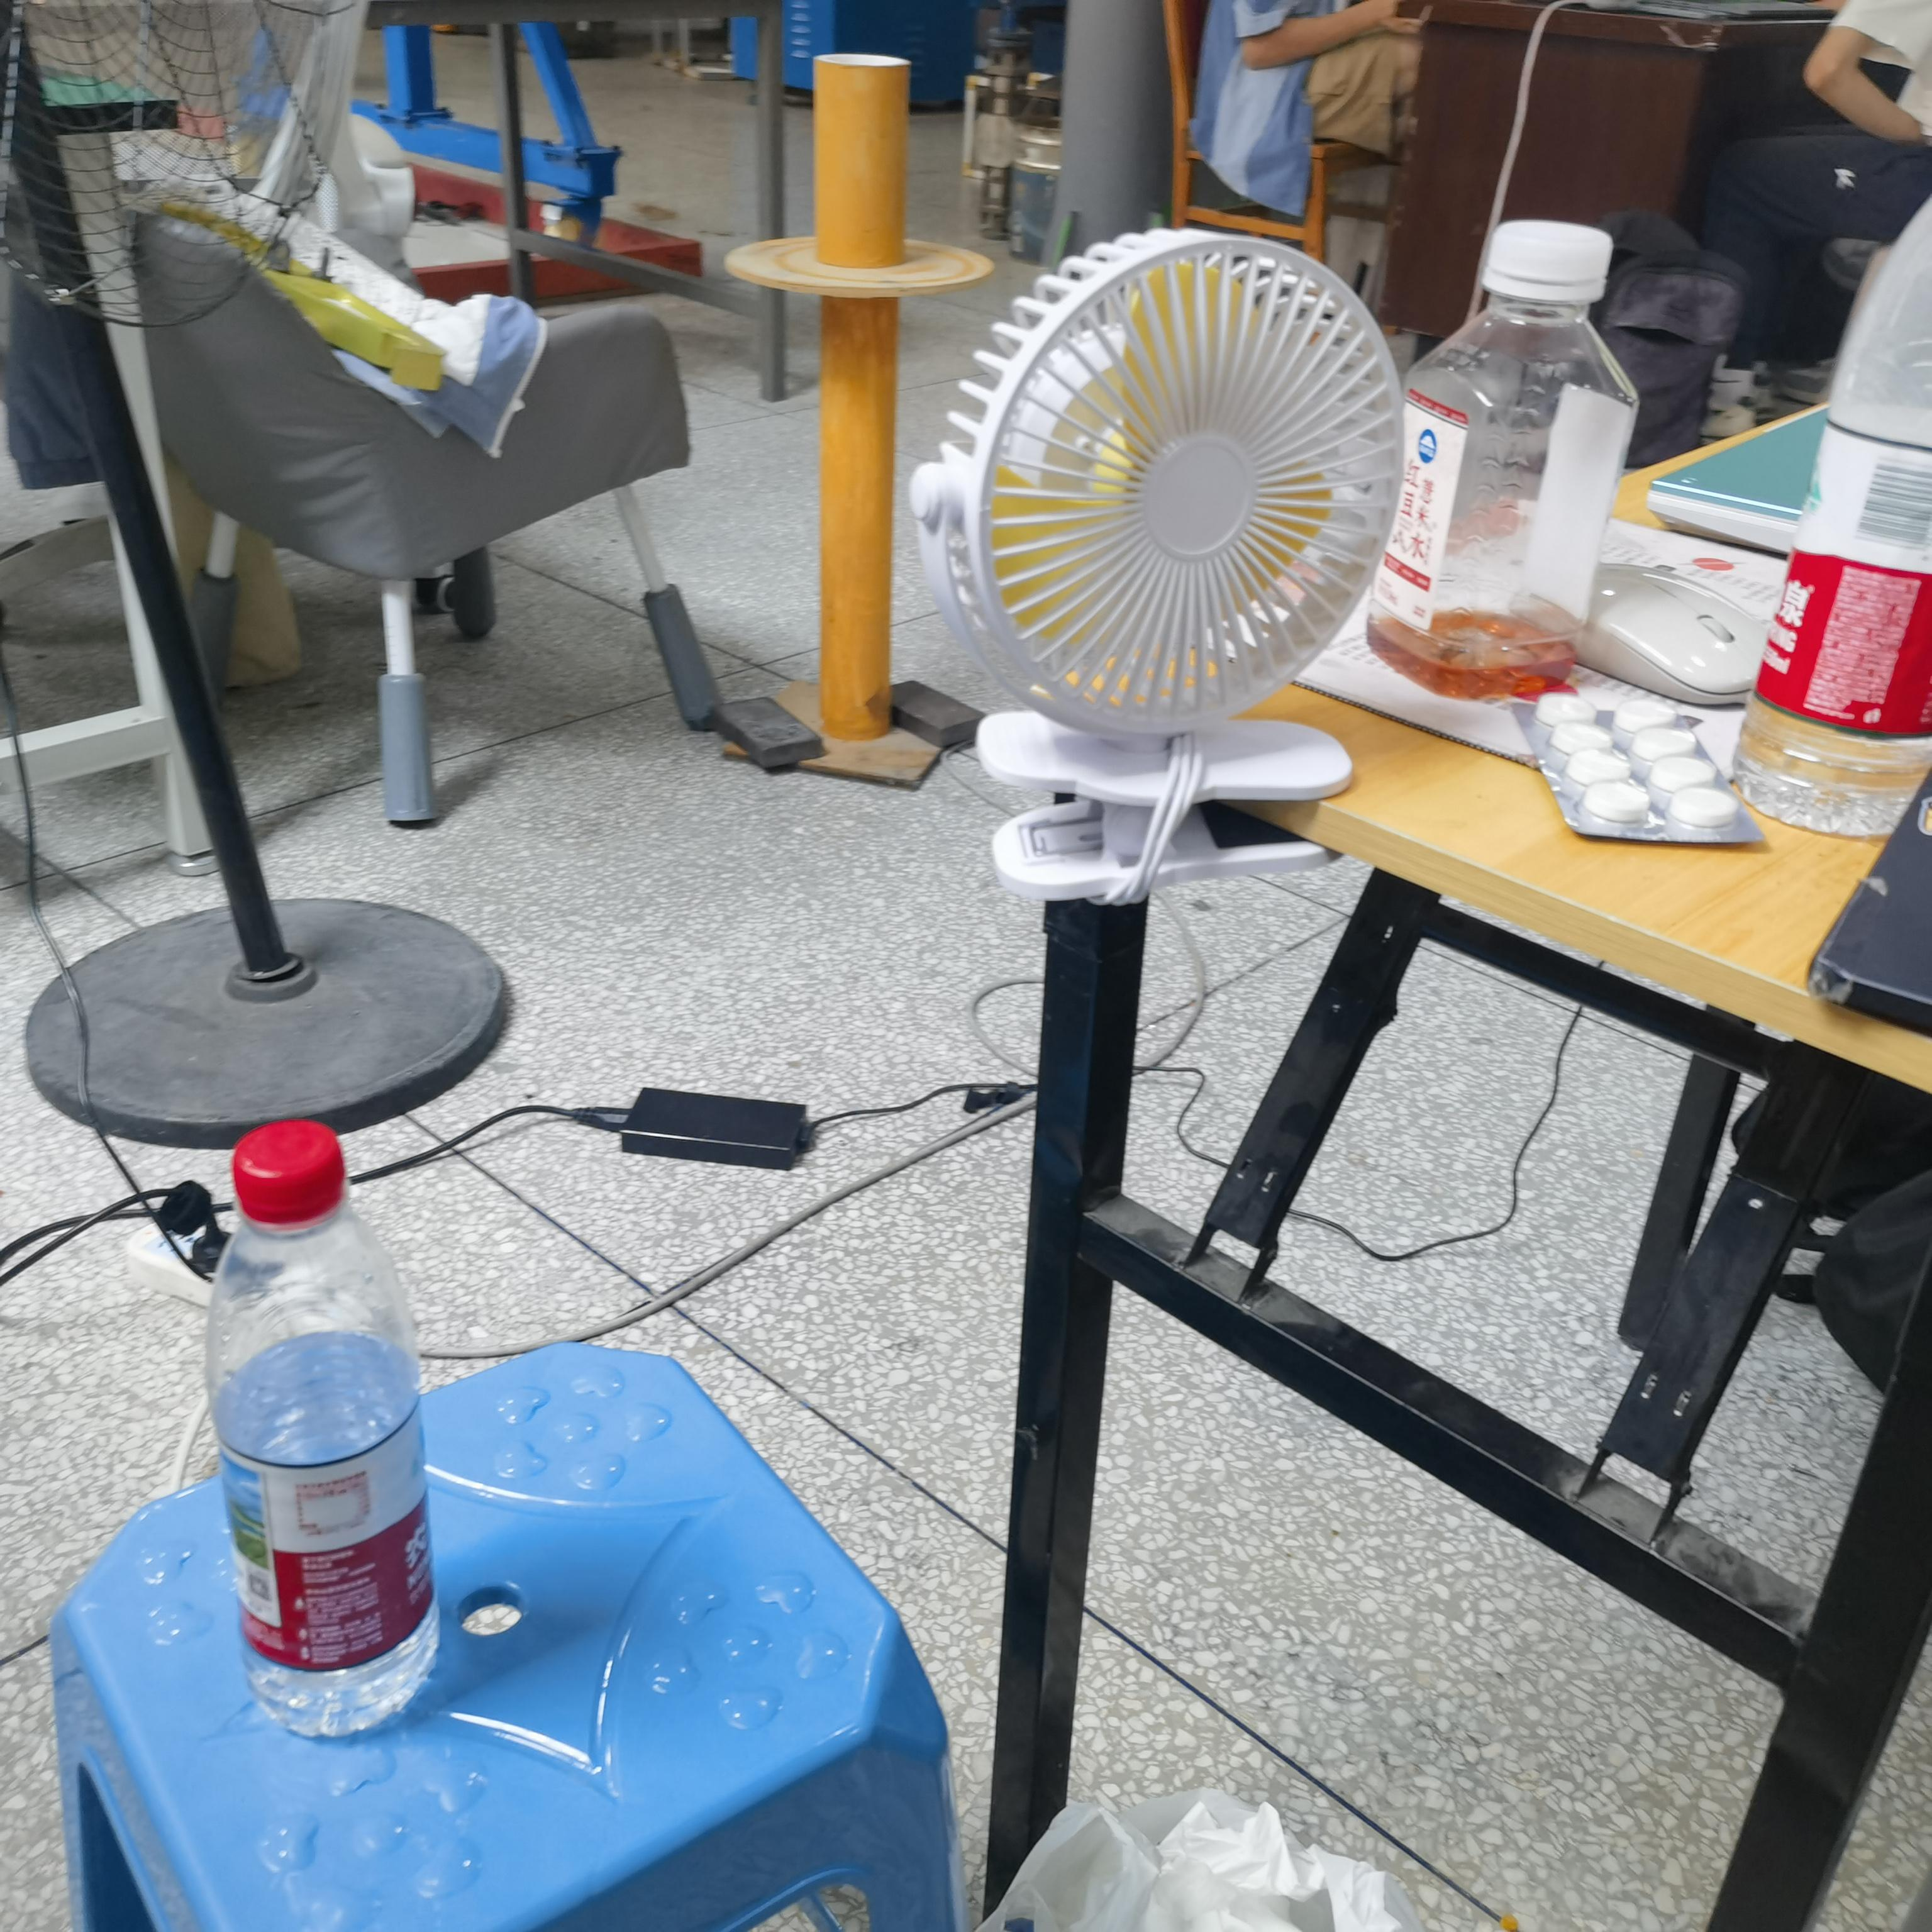bottle: (207, 1120, 439, 1737)
fan: (909, 228, 1401, 904)
